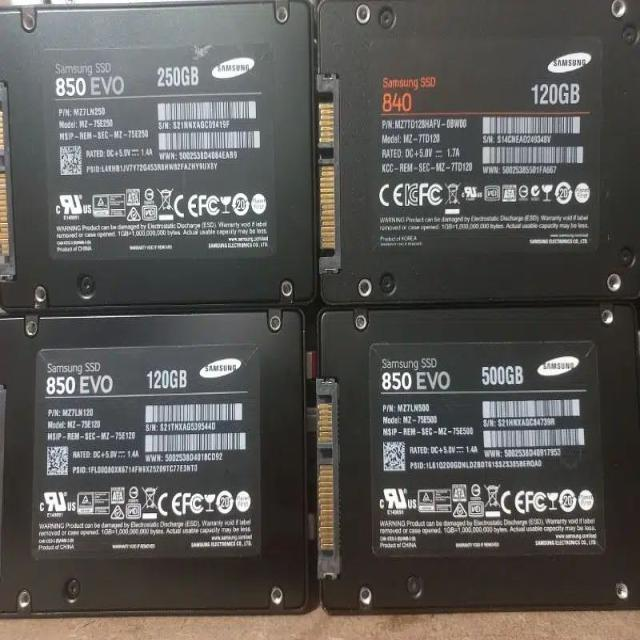electronic: (302, 282, 639, 640), (310, 0, 640, 337), (0, 300, 321, 639), (0, 0, 320, 308)
